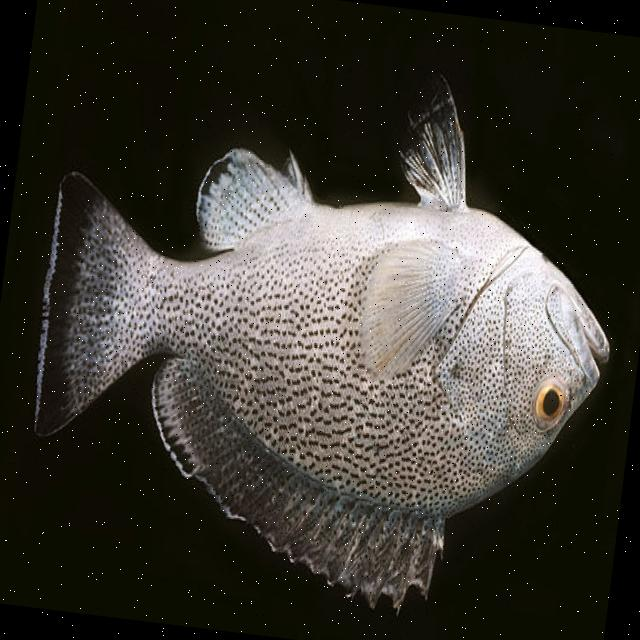ikan: (7, 27, 640, 639)
